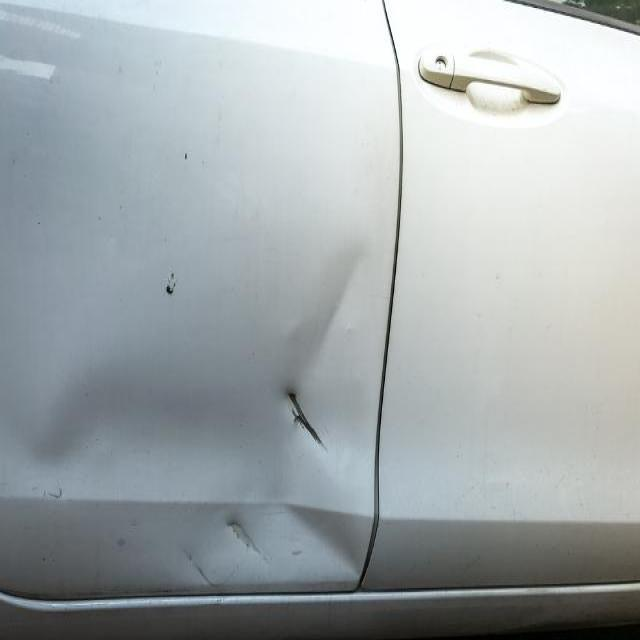Dent: (6, 580, 257, 603), (350, 498, 382, 590), (178, 536, 219, 584), (225, 518, 264, 562), (456, 478, 488, 506), (287, 390, 304, 418), (551, 468, 570, 492), (460, 551, 482, 569), (312, 432, 327, 452), (165, 272, 176, 295), (44, 486, 61, 498), (291, 412, 302, 428), (226, 518, 238, 530), (154, 587, 178, 593), (114, 535, 126, 545), (290, 548, 302, 555), (31, 484, 38, 492), (0, 480, 8, 487), (245, 540, 250, 548), (41, 556, 46, 561), (183, 152, 186, 159)
